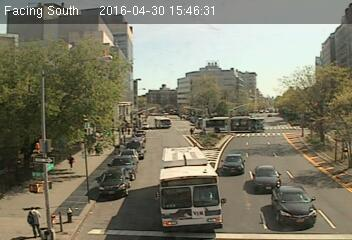neg: (113, 53, 140, 89), (15, 49, 42, 85), (42, 34, 67, 67), (154, 58, 175, 85), (248, 120, 268, 146), (261, 119, 280, 145), (63, 58, 81, 83), (246, 77, 264, 100), (174, 42, 191, 64), (199, 48, 213, 68), (229, 132, 243, 151), (268, 92, 280, 107), (219, 78, 228, 90), (157, 39, 166, 51), (103, 26, 111, 36)
pos: (20, 204, 43, 235), (66, 152, 78, 169), (91, 140, 101, 154), (118, 125, 127, 137), (198, 125, 207, 137), (125, 127, 132, 136), (187, 127, 194, 136)
